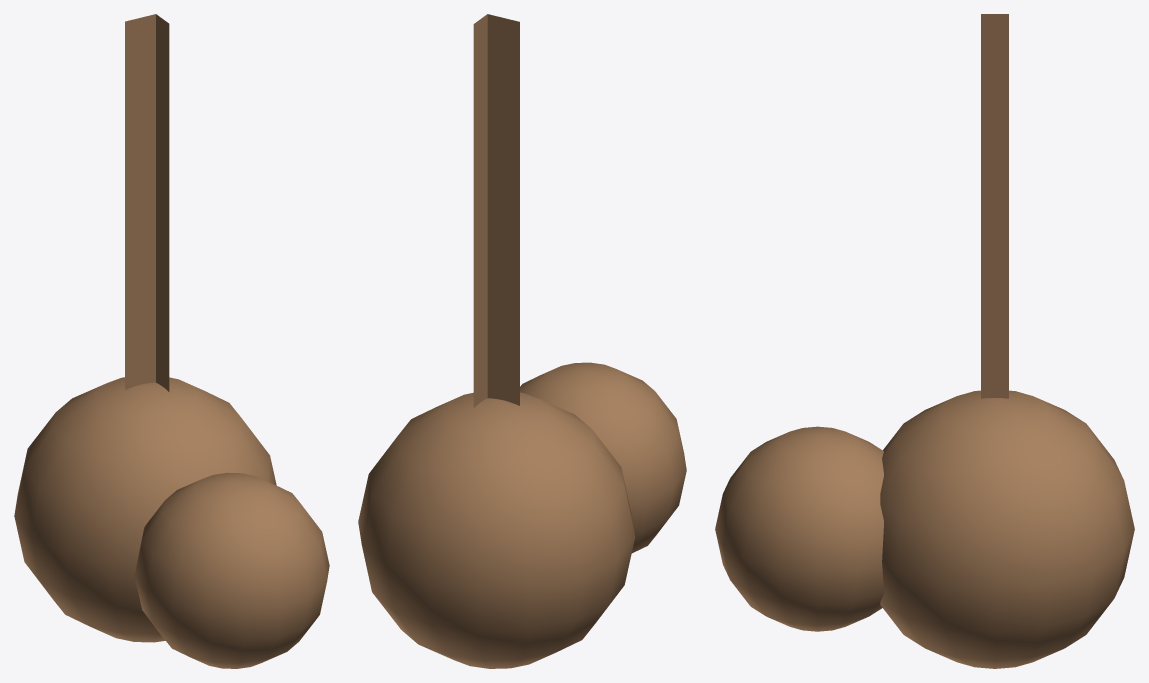
File: baglama.glb
3 views of the same model, side by side, from view 1: azimuth 30°, elevation 25°; view 2: azimuth 150°, elevation 25°; view 3: azimuth 270°, elevation 25° (orthographic). The views are drawn at different scales.
Visible parts, largest first — view 1: baglama; view 2: baglama; view 3: baglama.
Boxes of the visible parts, x1,y1,x2,y2 form: baglama: (14,14,329,668); baglama: (358,14,686,668); baglama: (715,14,1134,668).
Size of the model in its own units: 0.6 by 1.5 by 0.9.
